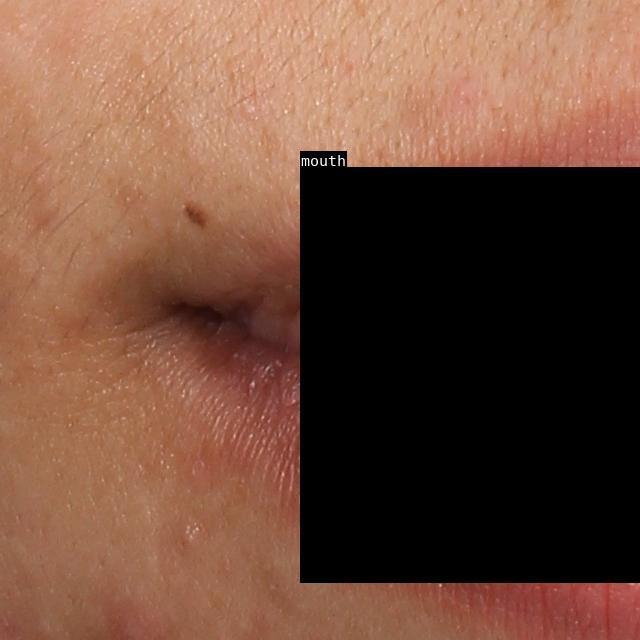comedo: (174, 524, 201, 556)
nevus: (180, 201, 211, 231)
